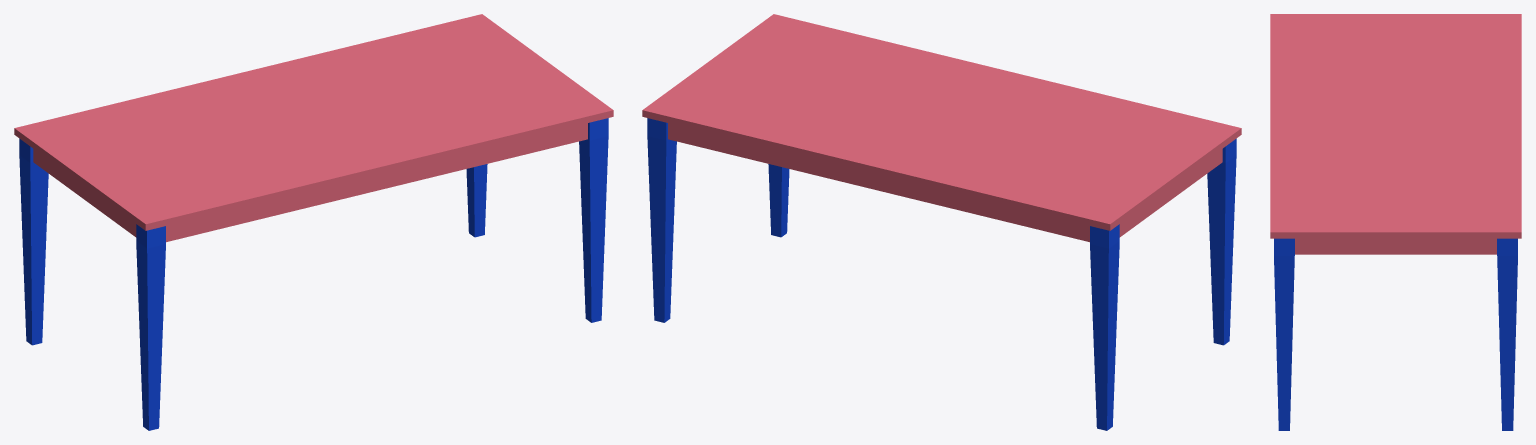
File: DiningTable.fbx
The picture shows the model from 3 angles, left to right: view 1: azimuth 30°, elevation 25°; view 2: azimuth 150°, elevation 25°; view 3: azimuth 270°, elevation 25°; orthographic projection. The views are drawn at different scales.
Parts seen in each view (by area): view 1: Cube; view 2: Cube; view 3: Cube.
Part boxes in pixels (<box>): Cube: <box>14,14,613,430</box>; Cube: <box>642,14,1241,430</box>; Cube: <box>1270,14,1521,430</box>.
Bounding box in the file's own units: 185 × 80 × 90.
